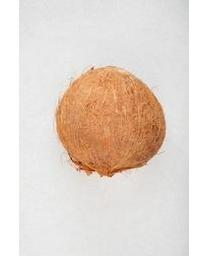coconut: (55, 65, 167, 175)
